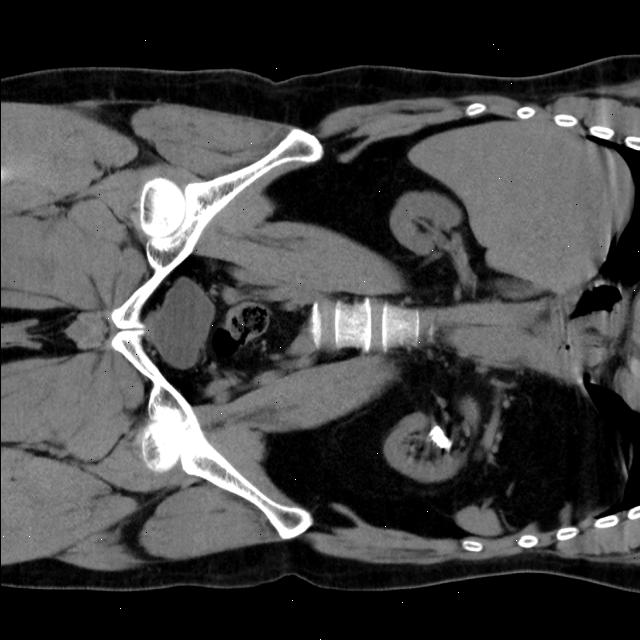kidneystone: (428, 425, 451, 451)
